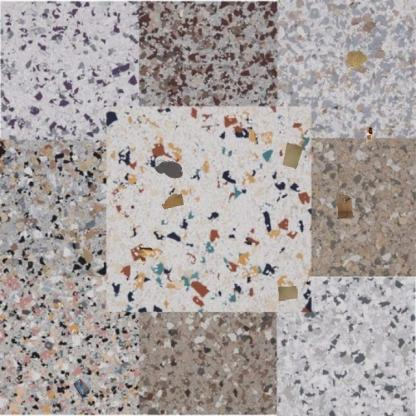dirty: (334, 190, 356, 221), (281, 141, 304, 169), (159, 191, 185, 211), (70, 376, 93, 398), (137, 245, 155, 266), (276, 284, 298, 301), (365, 124, 375, 147)
liquid: (153, 158, 184, 180), (341, 50, 369, 74)
